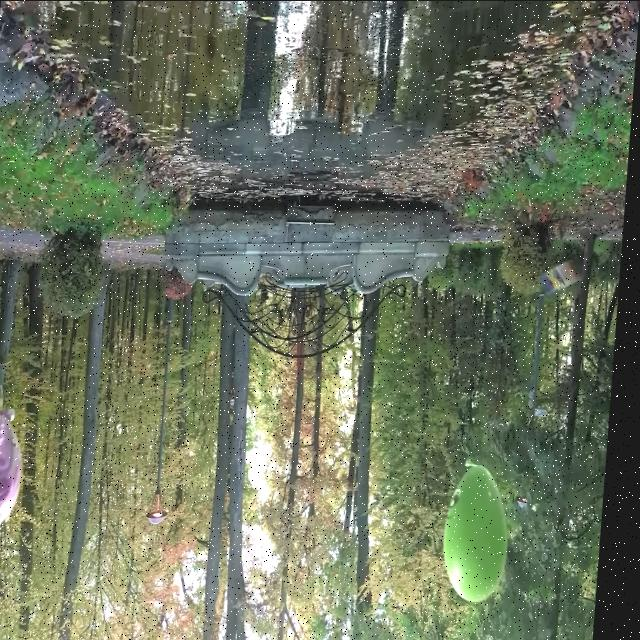balloon: (447, 462, 517, 602), (0, 406, 28, 526)
